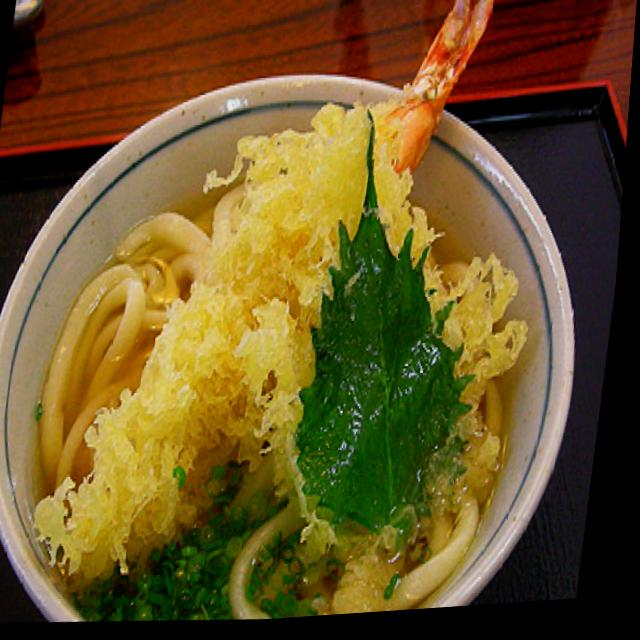面条主食: (17, 0, 566, 637)
